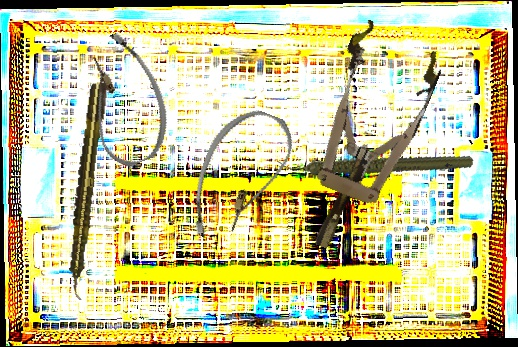Cannula: (178, 98, 302, 256), (64, 25, 183, 174)
Handpiece: (276, 115, 475, 210), (62, 81, 110, 301)
Speculum: (274, 16, 450, 264)
